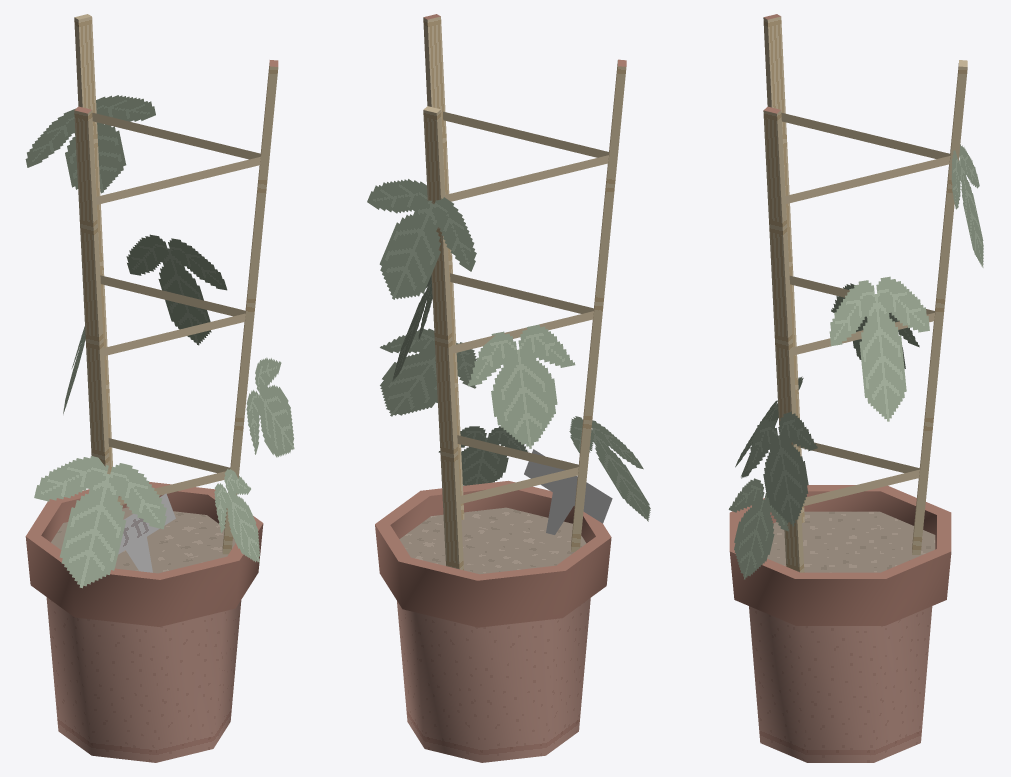
Rendered from 04e5_Morning_Glory.glb.
The picture shows the model from 3 angles, left to right: view 1: azimuth 30°, elevation 25°; view 2: azimuth 150°, elevation 25°; view 3: azimuth 270°, elevation 25°; orthographic projection.
Visible parts, largest first — view 1: part_0; view 2: part_0; view 3: part_0.
Boxes of the visible parts, box(x1,y1,x2,y2) form: part_0: box(25, 14, 294, 762); part_0: box(367, 14, 650, 762); part_0: box(728, 14, 983, 762).
Size of the model in its own units: 0.3413 by 0.6758 by 0.2609.
1 material, 1 textured.
